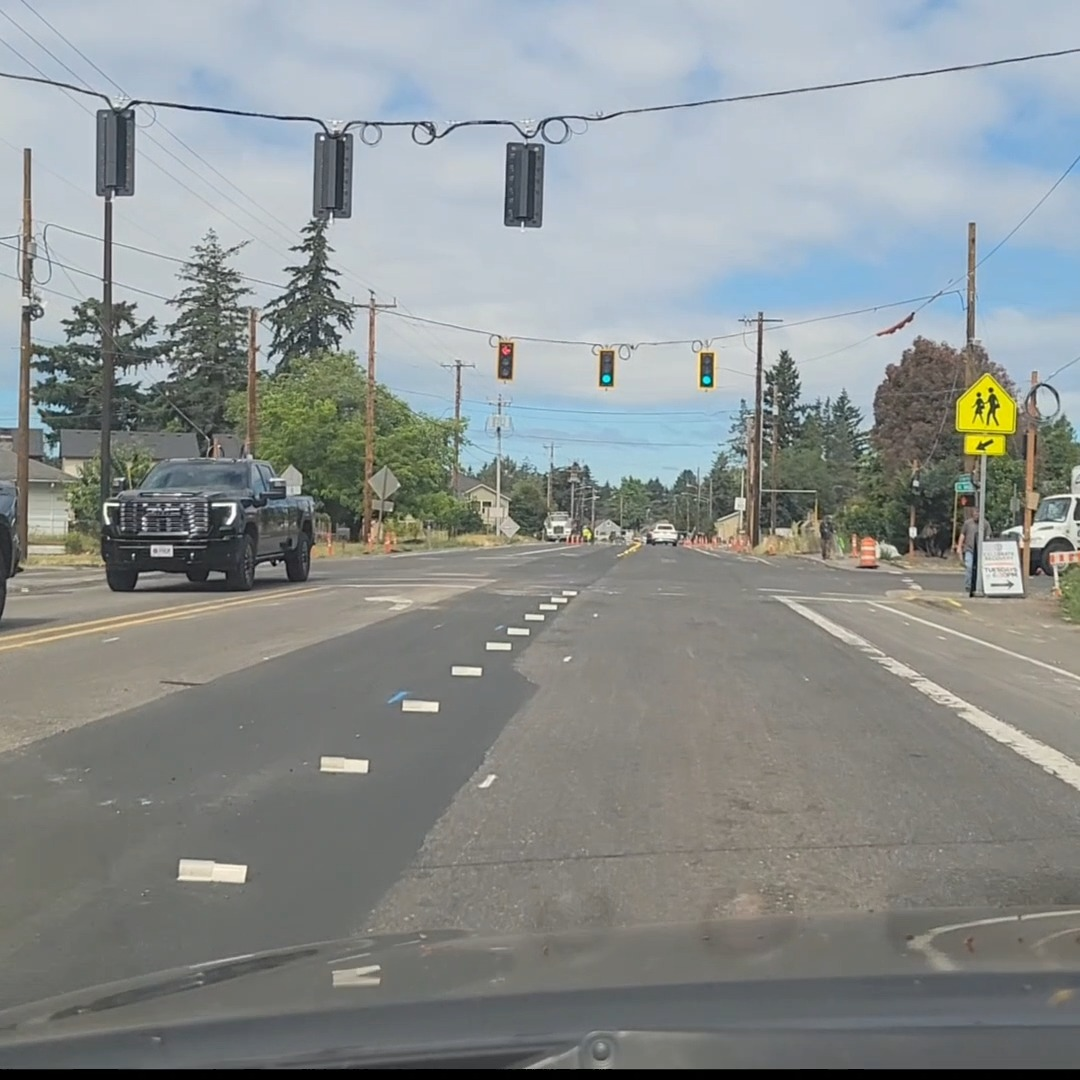car: (644, 522, 678, 546)
delineator: (368, 521, 378, 545), (383, 530, 392, 552), (326, 532, 333, 554), (851, 533, 858, 555)
